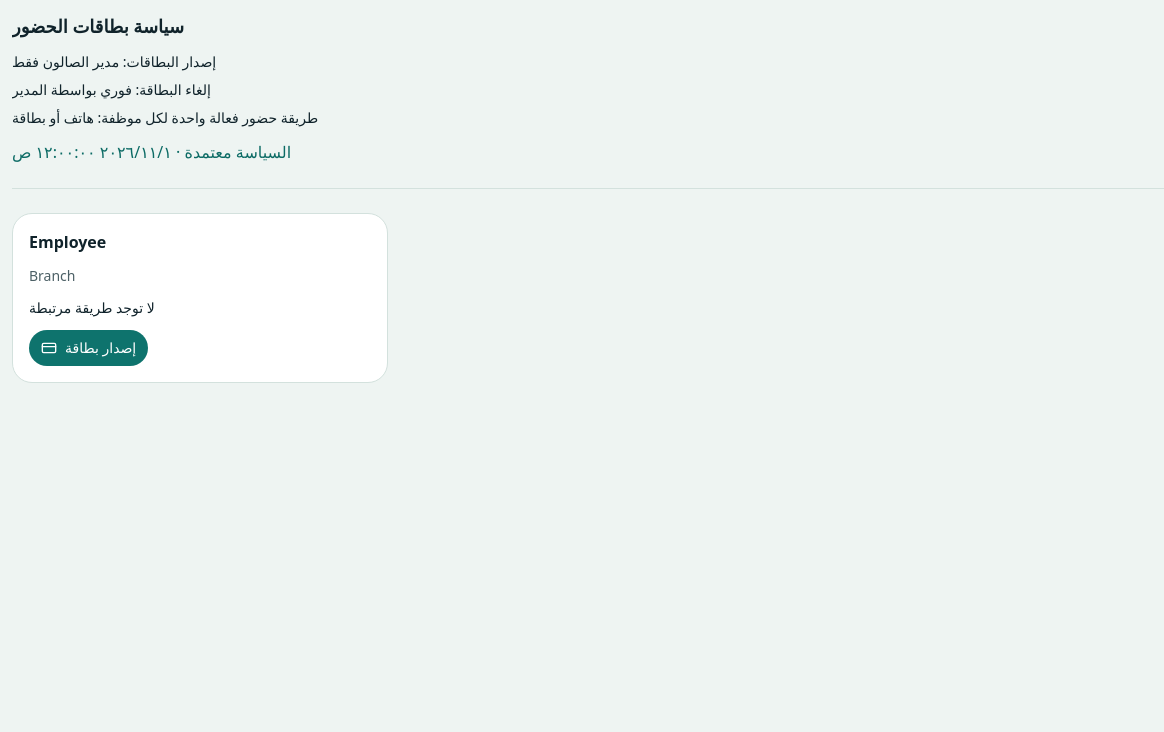
Scenario: lets the operator retry after a failed post-issuance refresh
This screenshot has width=1164, height=732.
Click the button "إصدار بطاقة".
click(89, 348)  # box [29,330,148,366]
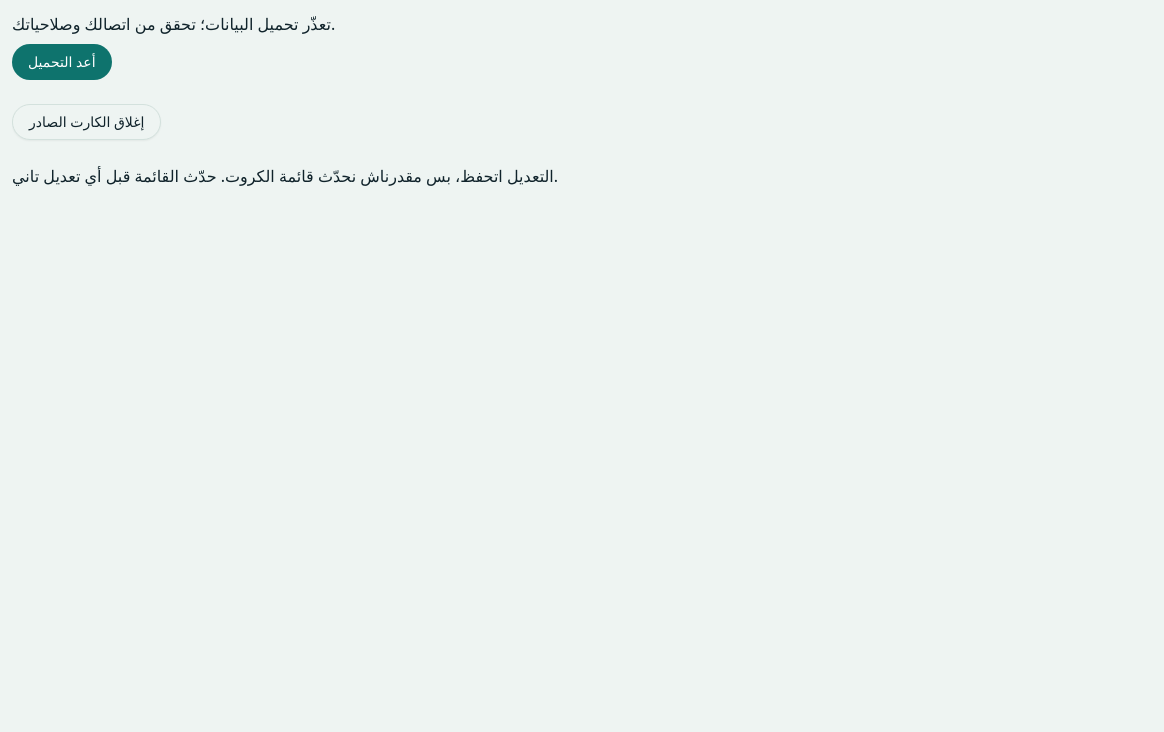
Expected: the button "طباعة البطاقة" is not shown
Click the button "أعد التحميل".
click(62, 62)  # box [12,44,112,80]
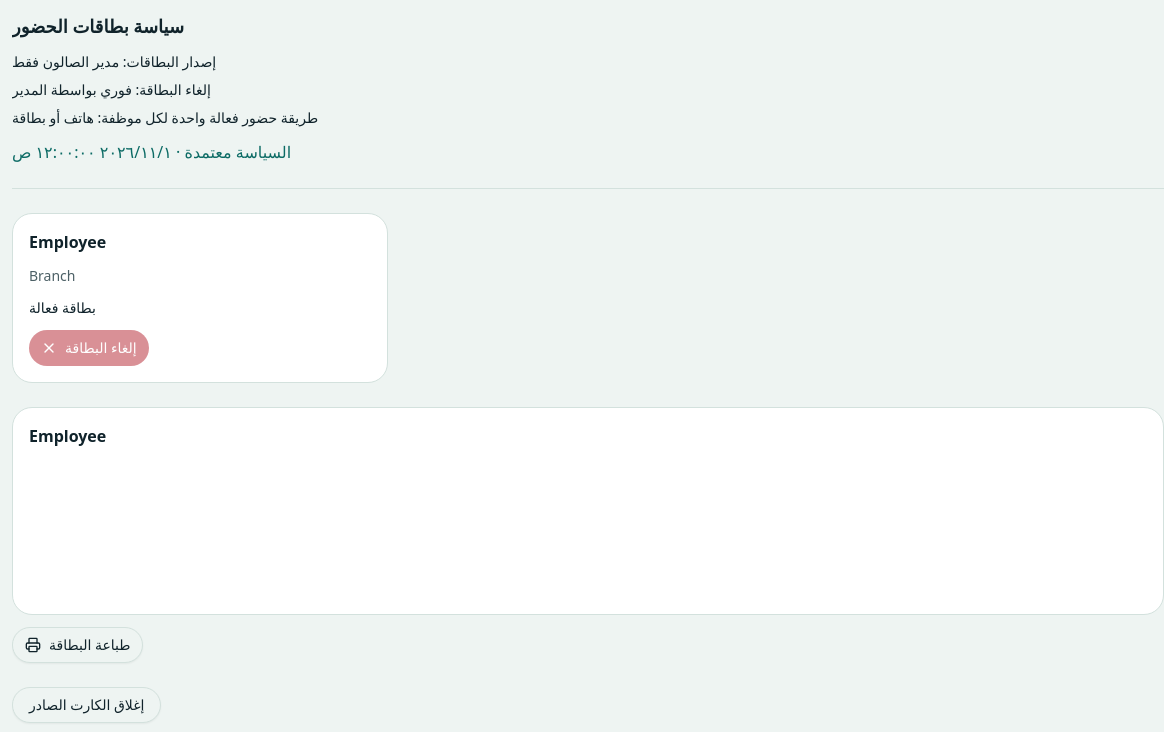
Result: the button "طباعة البطاقة" is shown at [12,627,144,663]
